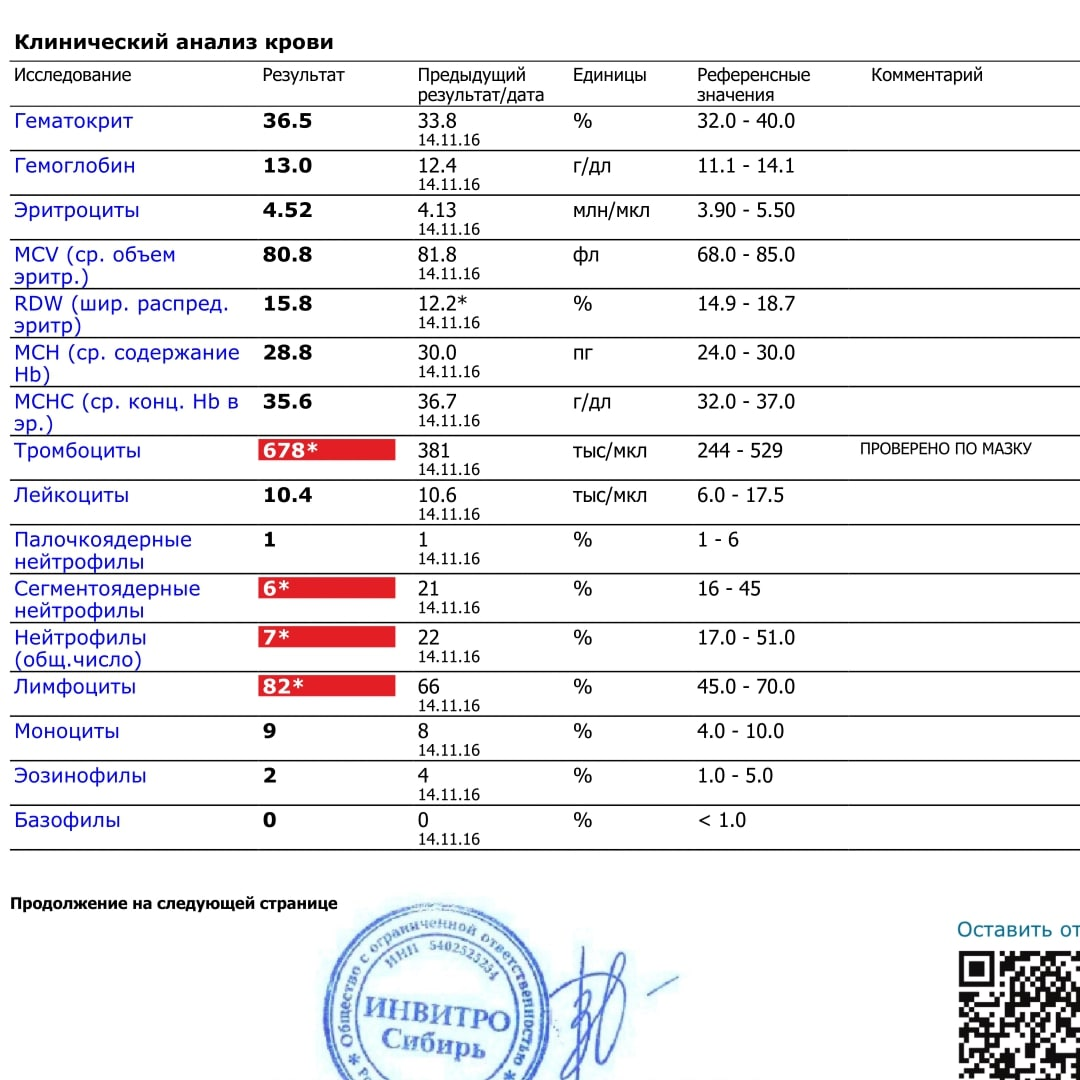column: (13, 61, 239, 849), (859, 61, 1033, 849), (417, 61, 545, 849), (696, 61, 811, 849), (262, 61, 346, 849), (572, 61, 650, 849)
